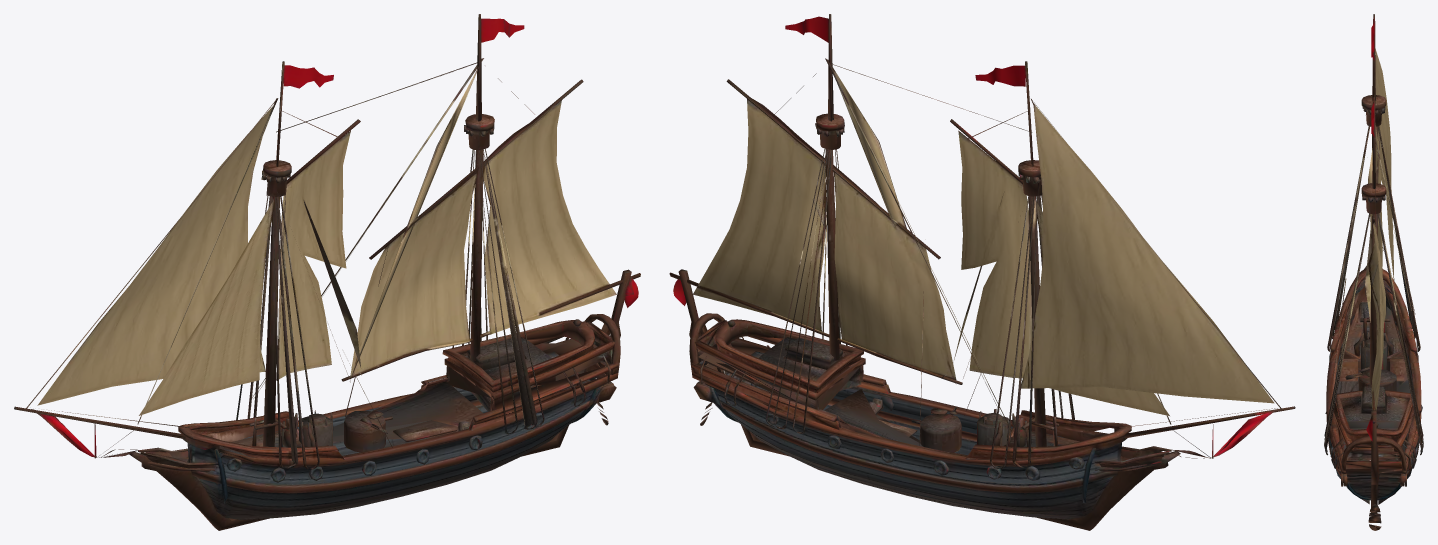
Rendered from ship.glb.
3 views of the same model, side by side, from view 1: azimuth 30°, elevation 25°; view 2: azimuth 150°, elevation 25°; view 3: azimuth 270°, elevation 25° (orthographic). The views are drawn at different scales.
Size of the model in its own units: 0.9648 by 0.667 by 0.1548.
1 material, 1 textured.
